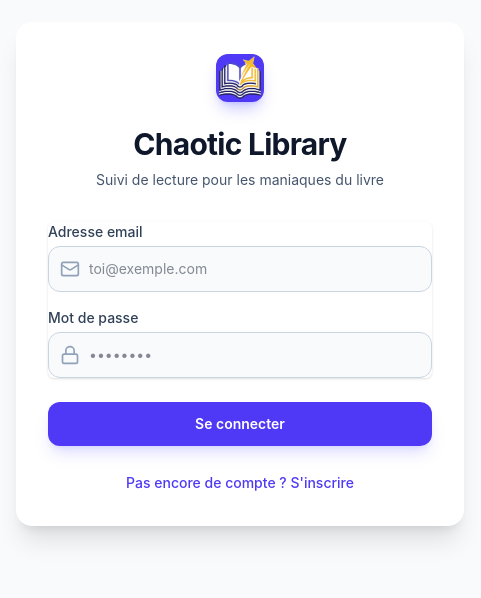
Scenario: Component - Auth › devrait afficher un message d'erreur si l'authentification échoue
The width and height of the screenshot is (481, 598).
Type "wrong@example.com" into the field labelled "Adresse email" at (240, 269), box [48, 246, 432, 292]
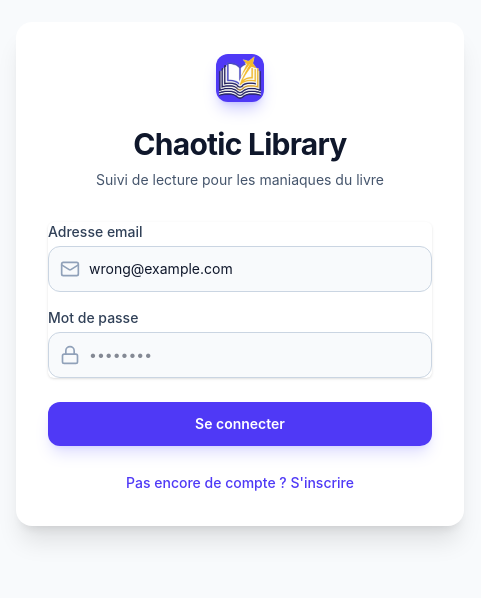
Type "wrongpass" into the password field labelled "Mot de passe" at (240, 355), box [48, 332, 432, 378]
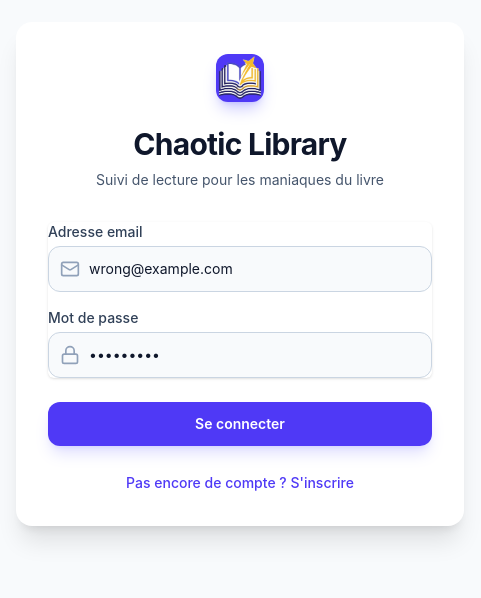
Click the button "Se connecter" at (240, 424), box [48, 402, 432, 446]
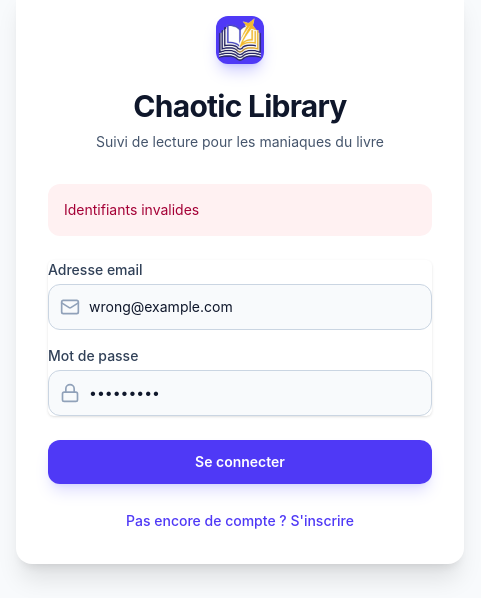
Check: the text "Identifiants invalides" is shown, box [48, 184, 432, 236]
